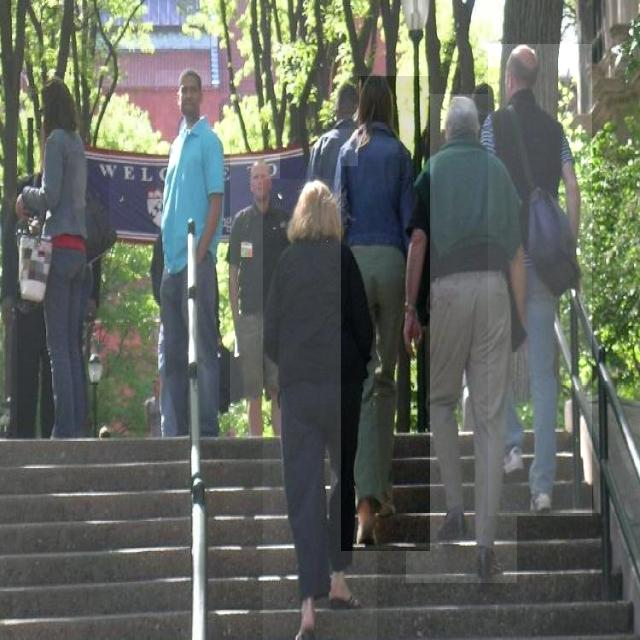with scooter: (406, 94, 517, 583), (263, 179, 377, 640), (488, 44, 592, 516), (341, 76, 430, 551), (18, 72, 110, 438), (156, 70, 230, 440), (230, 154, 280, 437), (306, 72, 358, 166)
